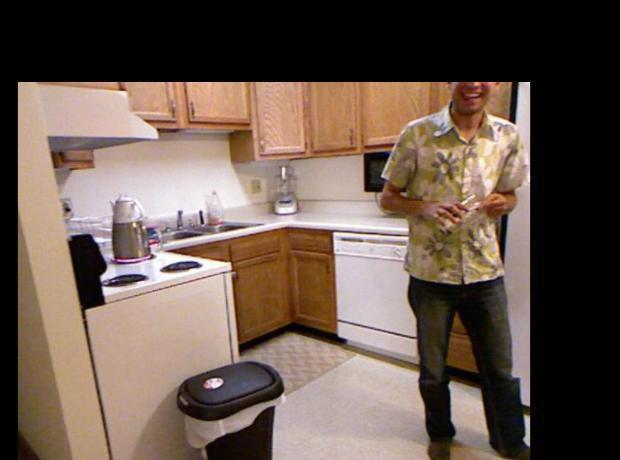Bote de Basura: (175, 350, 283, 460)
Electrodomestico: (76, 247, 240, 456), (331, 225, 429, 369)
Lavaplatos: (147, 201, 272, 262)
